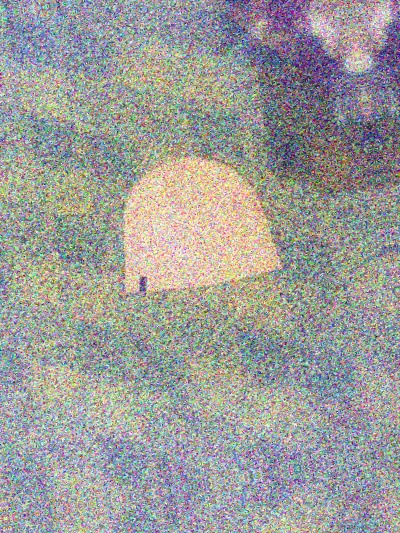Hat: (72, 115, 313, 321)
